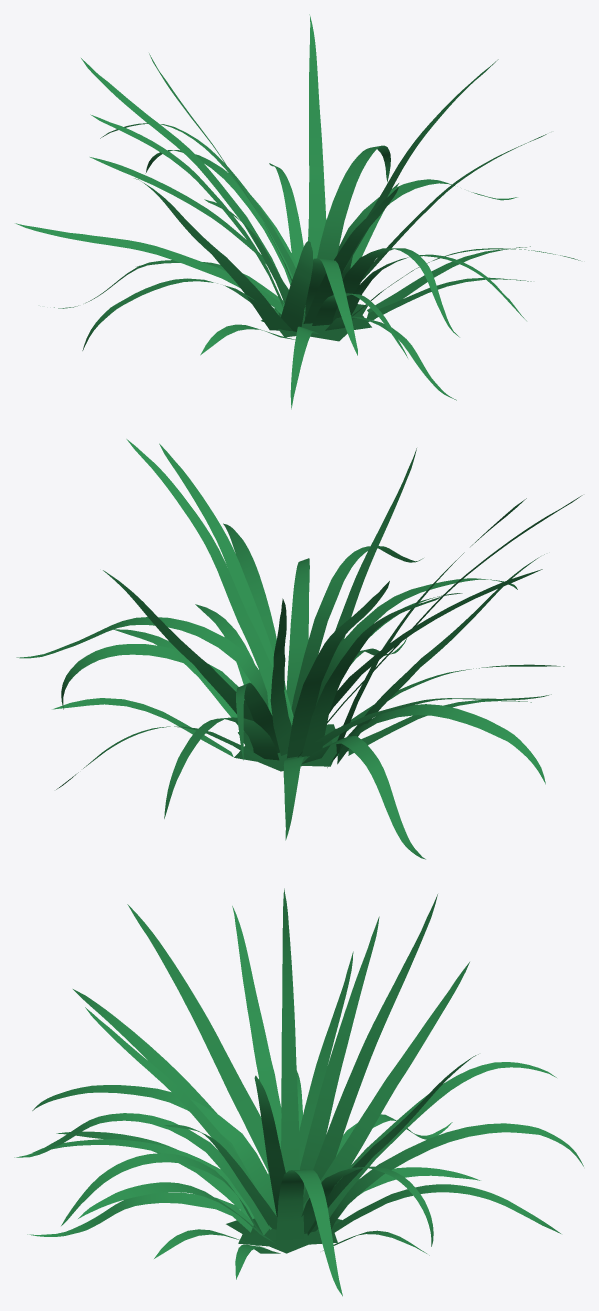
File: plant_bush_C.fbx
3 renders of one model, top to bottom at view 1: azimuth 30°, elevation 25°; view 2: azimuth 150°, elevation 25°; view 3: azimuth 270°, elevation 25°, orthographic. The views are drawn at different scales.
Visible parts, largest first — view 1: plant_bush_C_leaf_M, plant_bush_C_leaf_R1, plant_bush_C_leaf_E, plant_bush_C_leaf_F, plant_bush_C_leaf_A, plant_bush_C_leaf_N, plant_bush_C_leaf_P, plant_bush_C_leaf_H, plant_bush_C_leaf_I, plant_bush_C_leaf_R, plant_bush_C_leaf_D, plant_bush_C_leaf_C (+14 smaller); view 2: plant_bush_C_leaf_J, plant_bush_C_leaf_A, plant_bush_C_leaf_K, plant_bush_C_leaf_Q, plant_bush_C_leaf_P, plant_bush_C_leaf_D, plant_bush_C_leaf_O, plant_bush_C_leaf_T, plant_bush_C_leaf_P1, plant_bush_C_leaf_B, plant_bush_C_leaf_M, plant_bush_C_leaf_R (+17 smaller); view 3: plant_bush_C_leaf_C, plant_bush_C_leaf_G, plant_bush_C_leaf_A, plant_bush_C_leaf_Q, plant_bush_C_leaf_D, plant_bush_C_leaf_B, plant_bush_C_leaf_N, plant_bush_C_leaf_R, plant_bush_C_leaf_F, plant_bush_C_leaf_P, plant_bush_C_leaf_P3, plant_bush_C_leaf_L (+15 smaller).
Part boxes in pixels (x1=…): plant_bush_C_leaf_M: x1=304, y1=14, x2=326, y2=311; plant_bush_C_leaf_R1: x1=317, y1=145, x2=390, y2=294; plant_bush_C_leaf_E: x1=15, y1=223, x2=284, y2=312; plant_bush_C_leaf_F: x1=134, y1=178, x2=292, y2=330; plant_bush_C_leaf_A: x1=81, y1=58, x2=280, y2=275; plant_bush_C_leaf_N: x1=305, y1=258, x2=357, y2=355; plant_bush_C_leaf_P: x1=332, y1=248, x2=459, y2=337; plant_bush_C_leaf_H: x1=281, y1=241, x2=312, y2=331; plant_bush_C_leaf_I: x1=303, y1=187, x2=398, y2=323; plant_bush_C_leaf_R: x1=145, y1=150, x2=297, y2=284; plant_bush_C_leaf_D: x1=90, y1=114, x2=284, y2=307; plant_bush_C_leaf_C: x1=90, y1=157, x2=305, y2=315; plant_bush_C_leaf_J: x1=126, y1=439, x2=293, y2=725; plant_bush_C_leaf_A: x1=287, y1=581, x2=389, y2=758; plant_bush_C_leaf_K: x1=159, y1=443, x2=293, y2=717; plant_bush_C_leaf_Q: x1=16, y1=617, x2=268, y2=707; plant_bush_C_leaf_P: x1=291, y1=546, x2=423, y2=715; plant_bush_C_leaf_D: x1=301, y1=596, x2=441, y2=756; plant_bush_C_leaf_O: x1=327, y1=704, x2=545, y2=784; plant_bush_C_leaf_T: x1=286, y1=558, x2=309, y2=708; plant_bush_C_leaf_P1: x1=302, y1=736, x2=425, y2=859; plant_bush_C_leaf_B: x1=270, y1=598, x2=291, y2=755; plant_bush_C_leaf_M: x1=103, y1=570, x2=288, y2=748; plant_bush_C_leaf_R: x1=164, y1=717, x2=279, y2=818; plant_bush_C_leaf_C: x1=281, y1=888, x2=299, y2=1172; plant_bush_C_leaf_G: x1=127, y1=904, x2=269, y2=1174; plant_bush_C_leaf_A: x1=303, y1=894, x2=437, y2=1204; plant_bush_C_leaf_Q: x1=276, y1=1169, x2=342, y2=1296; plant_bush_C_leaf_D: x1=300, y1=916, x2=379, y2=1196; plant_bush_C_leaf_B: x1=303, y1=962, x2=469, y2=1210; plant_bush_C_leaf_N: x1=32, y1=1085, x2=276, y2=1229; plant_bush_C_leaf_R: x1=329, y1=1123, x2=583, y2=1229; plant_bush_C_leaf_F: x1=232, y1=906, x2=281, y2=1180; plant_bush_C_leaf_P: x1=14, y1=1113, x2=269, y2=1234; plant_bush_C_leaf_P3: x1=27, y1=1192, x2=253, y2=1236; plant_bush_C_leaf_L: x1=316, y1=1062, x2=556, y2=1231.
Bounding box in the file's own units: 121 × 58.69 × 116.
